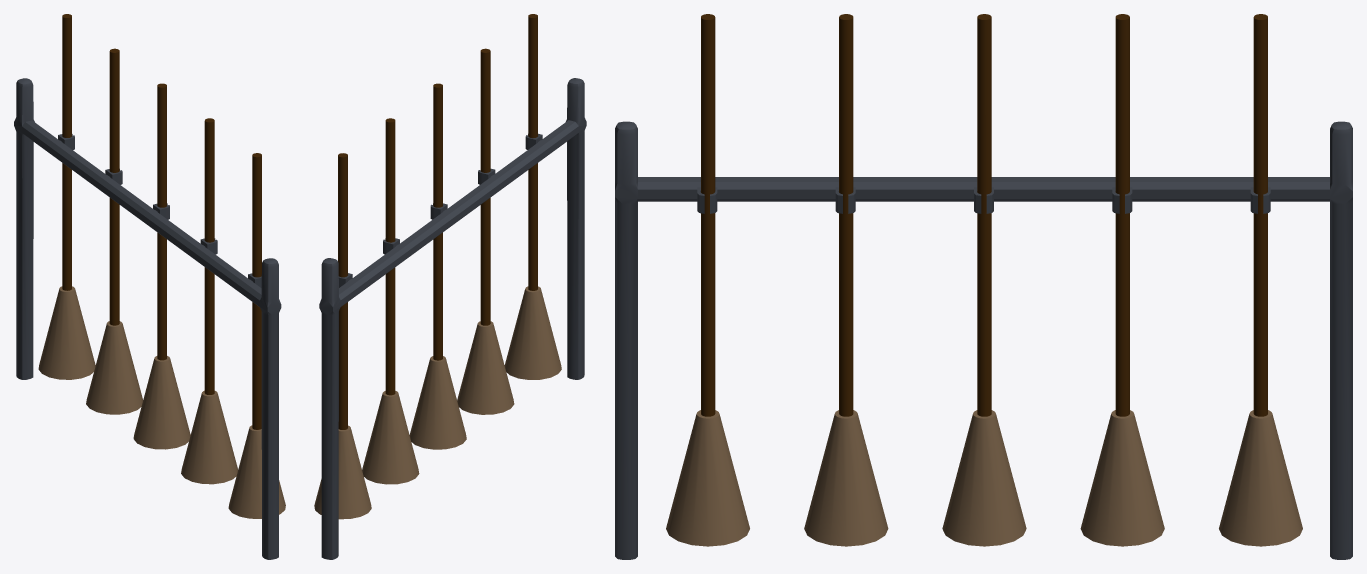
File: Broom_Stand.fbx
3 views of the same model, side by side, from view 1: azimuth 30°, elevation 25°; view 2: azimuth 150°, elevation 25°; view 3: azimuth 270°, elevation 25° (orthographic). The views are drawn at different scales.
Parts seen in each view (by area): view 1: Brooms, BroomStand; view 2: Brooms, BroomStand; view 3: Brooms, BroomStand.
Part boxes in pixels (x1,y1,x2,y2): Brooms: [38, 14, 285, 518]; BroomStand: [14, 78, 281, 559]; Brooms: [314, 14, 561, 519]; BroomStand: [319, 78, 586, 559]; Brooms: [666, 14, 1302, 546]; BroomStand: [615, 121, 1352, 559].
Bounding box in the file's own units: 46.06 × 331 × 403.
